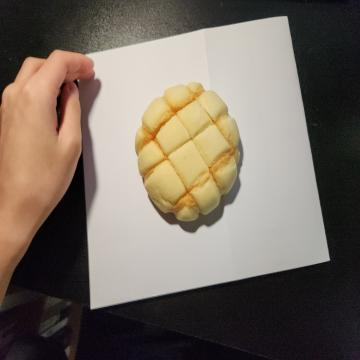melon_bread: (135, 82, 241, 228)
